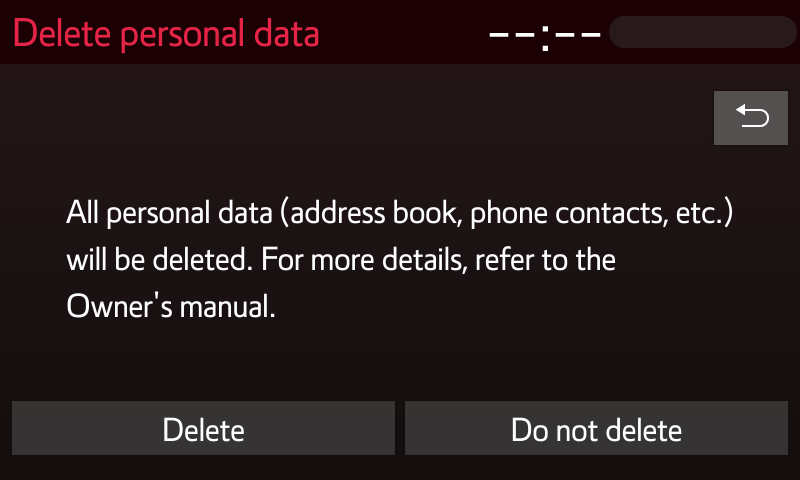touchPart: (402, 395, 792, 463), (11, 396, 398, 461), (703, 86, 790, 156)
untouchPart: (44, 183, 753, 339), (485, 7, 794, 54), (12, 15, 320, 55)
